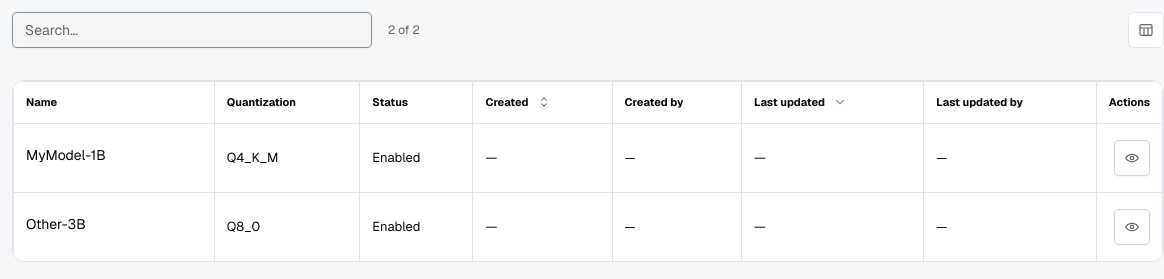
filters model rows by name and quantization without changing the catalog
The image size is (1164, 279).
Expected: the heading "MyModel-1B" is shown, [26,146,106,164]
Type "Q8_0" into the search field named "Search ai models".
click(192, 30); type("Q8_0")  # box [12,12,372,48]
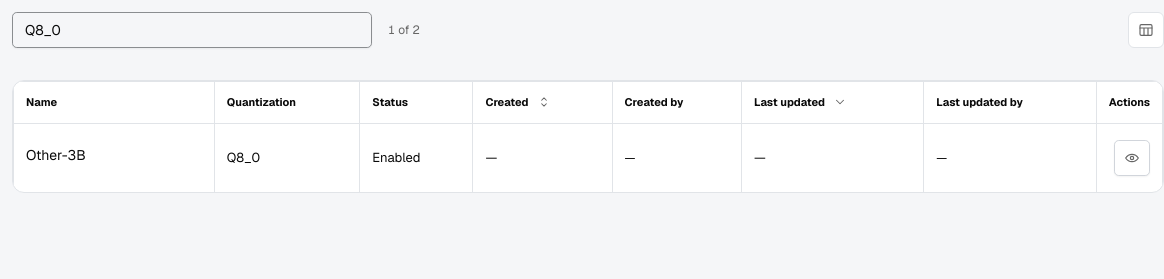
Expected: the heading "Other-3B" is shown, [26,146,86,164]
Expected: the heading "MyModel-1B" is gone
